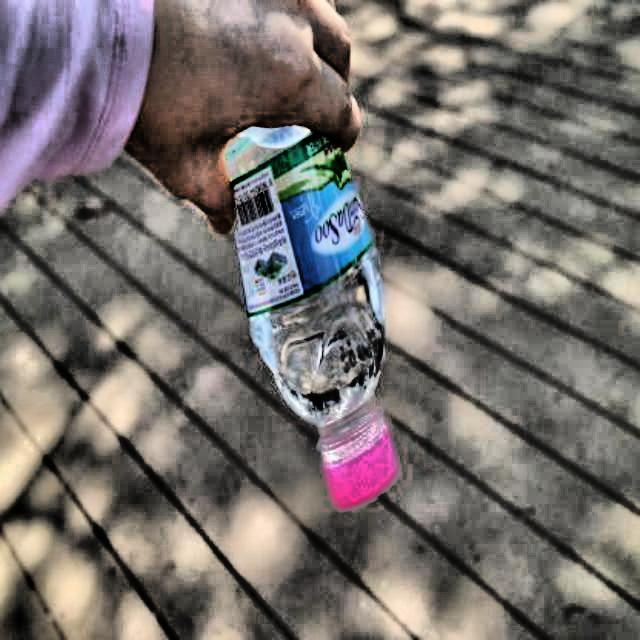Bottles: (216, 106, 404, 516)
